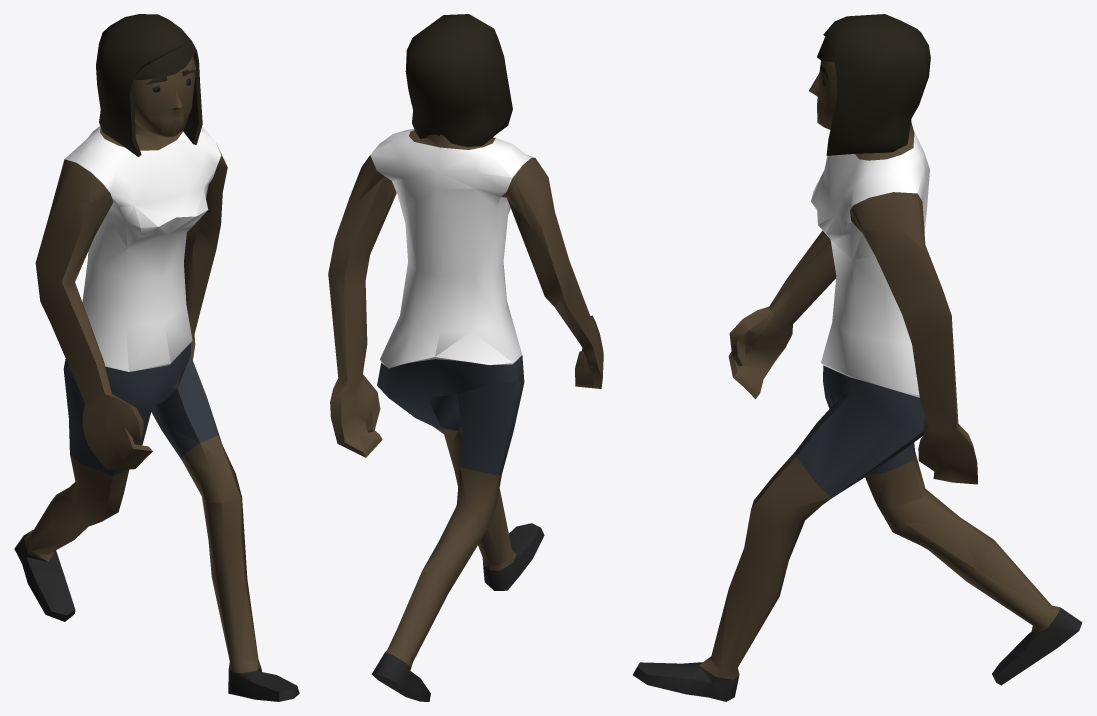
File: person-walk.glb
3 views of the same model, side by side, from view 1: azimuth 30°, elevation 25°; view 2: azimuth 150°, elevation 25°; view 3: azimuth 270°, elevation 25° (orthographic). The views are drawn at different scales.
Visible parts, largest first — view 1: lod0; view 2: lod0; view 3: lod0.
Boxes of the visible parts, x1,y1,x2,y2 form: lod0: [14, 14, 299, 701]; lod0: [328, 14, 603, 701]; lod0: [632, 14, 1082, 701].
Size of what is drawn, in the model's own units: 0.5454 by 1.66 by 1.
